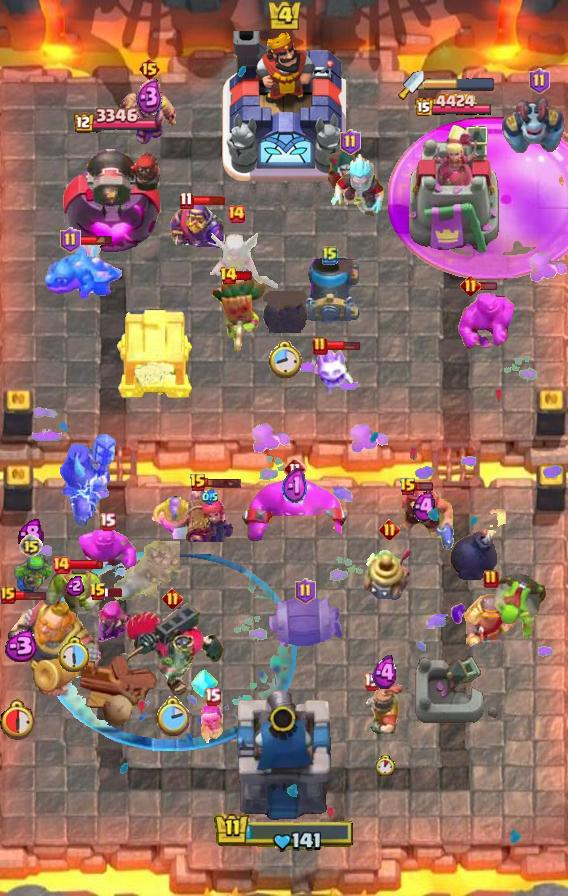archer-evolution: (92, 592, 132, 646)
bandit: (324, 145, 376, 203)
bar: (205, 477, 242, 489), (68, 559, 104, 571), (326, 340, 361, 352), (79, 234, 114, 246), (12, 590, 47, 601), (192, 195, 226, 206), (235, 270, 254, 282), (104, 587, 124, 598), (415, 481, 434, 492), (479, 281, 498, 291)
bar-level: (19, 534, 43, 558), (283, 457, 307, 481), (138, 57, 161, 81), (295, 578, 316, 604), (60, 227, 81, 253), (340, 129, 361, 155), (529, 68, 550, 94), (162, 588, 183, 609), (379, 519, 400, 540), (460, 275, 481, 296), (51, 555, 71, 575), (226, 204, 246, 224), (219, 266, 238, 286), (89, 582, 107, 602), (399, 477, 417, 497), (189, 473, 207, 493), (204, 687, 221, 706), (363, 672, 380, 691), (99, 512, 116, 531), (483, 569, 499, 589), (312, 336, 328, 356), (322, 245, 338, 265), (0, 586, 16, 604), (179, 191, 194, 210)
barbarian-barrel: (265, 593, 345, 653)
barbarian-evolution: (118, 86, 180, 148)
bomb: (449, 509, 509, 581), (263, 291, 307, 333)
cannoneer-tower: (62, 138, 166, 256)
clock: (0, 698, 39, 740), (155, 696, 189, 736), (268, 341, 302, 380), (58, 636, 92, 673), (376, 755, 395, 776)
dagger-duchess-tower: (406, 122, 500, 256)
dagger-duchess-tower-bar: (424, 77, 496, 91)
dart-goblin: (210, 275, 270, 353)
dirt: (111, 541, 180, 604)
electro-dragon: (43, 237, 127, 301)
elite-barbarian: (151, 496, 200, 539)
elixir: (0, 630, 39, 662), (282, 467, 308, 507), (136, 79, 163, 116), (372, 655, 399, 691), (18, 518, 44, 549), (413, 491, 436, 523), (66, 575, 85, 596), (202, 489, 218, 505)
elixir-golem-mid: (458, 291, 514, 351), (76, 527, 138, 573)
firecracker-evolution: (182, 480, 238, 542)
goblin-ball: (491, 571, 549, 643)
goblin-brawler: (44, 569, 106, 625)
ice-spirit-evolution: (310, 343, 354, 397)
ice-spirit-evolution-symbol: (190, 666, 218, 700)
ice-wizard: (328, 153, 386, 217)
king-tower: (222, 31, 346, 181), (232, 686, 336, 826)
king-tower-bar: (214, 812, 355, 853)
knight: (464, 593, 518, 649)
knight-evolution: (169, 200, 225, 249)
mega-minion: (500, 95, 568, 157)
mortar: (300, 258, 360, 322)
royal-recruit: (365, 682, 405, 736)
skeleton-evolution: (200, 702, 224, 746)
spear-goblin: (10, 555, 52, 595)
tower-bar: (71, 108, 157, 135), (414, 93, 493, 119)
zappy: (362, 545, 416, 603)
